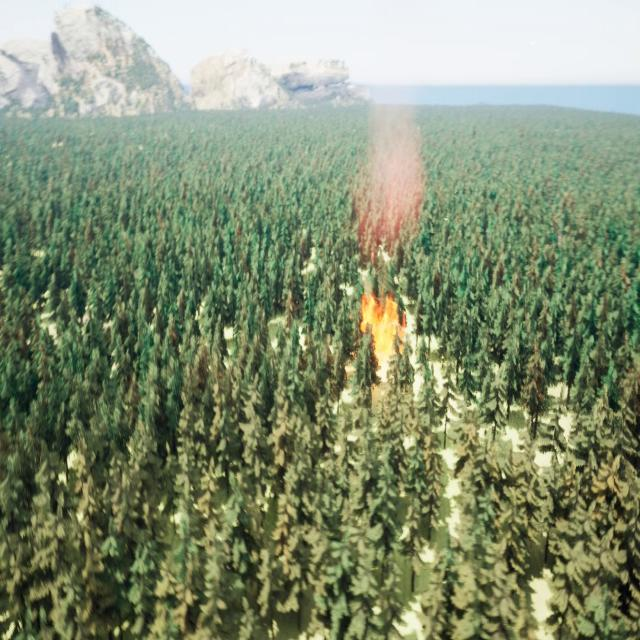fire: (362, 287, 408, 360)
smoke: (353, 90, 428, 266)
